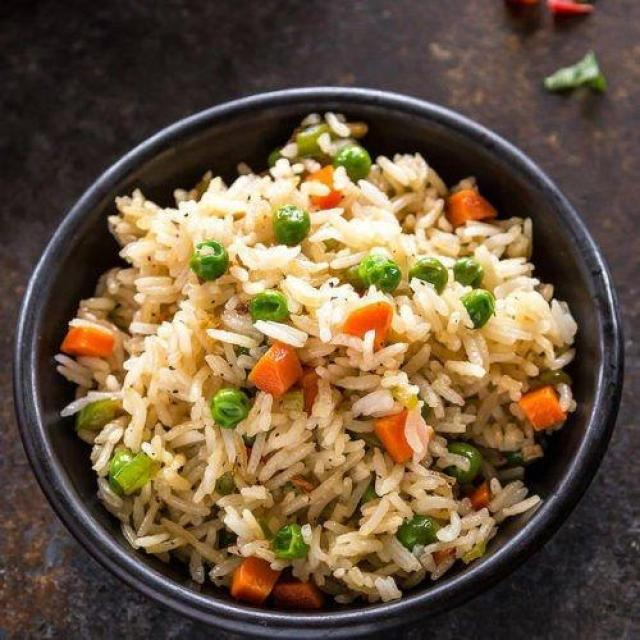Nasi Goreng: (54, 111, 580, 610)
